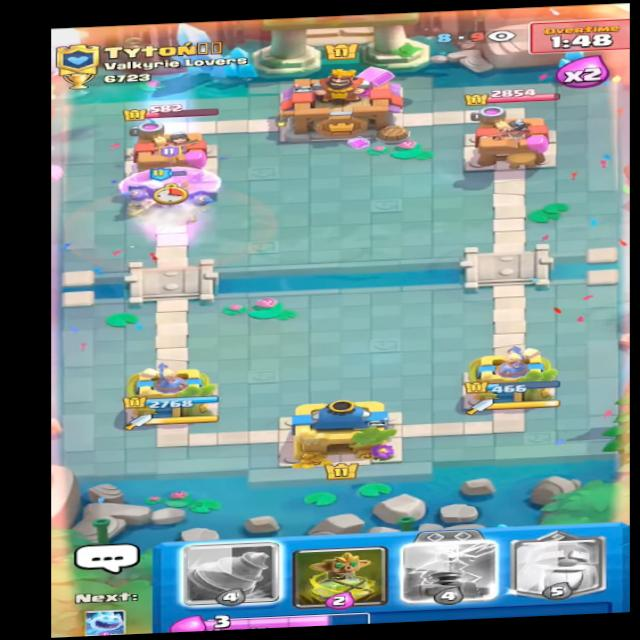evo-wizard: (114, 147, 229, 201)
